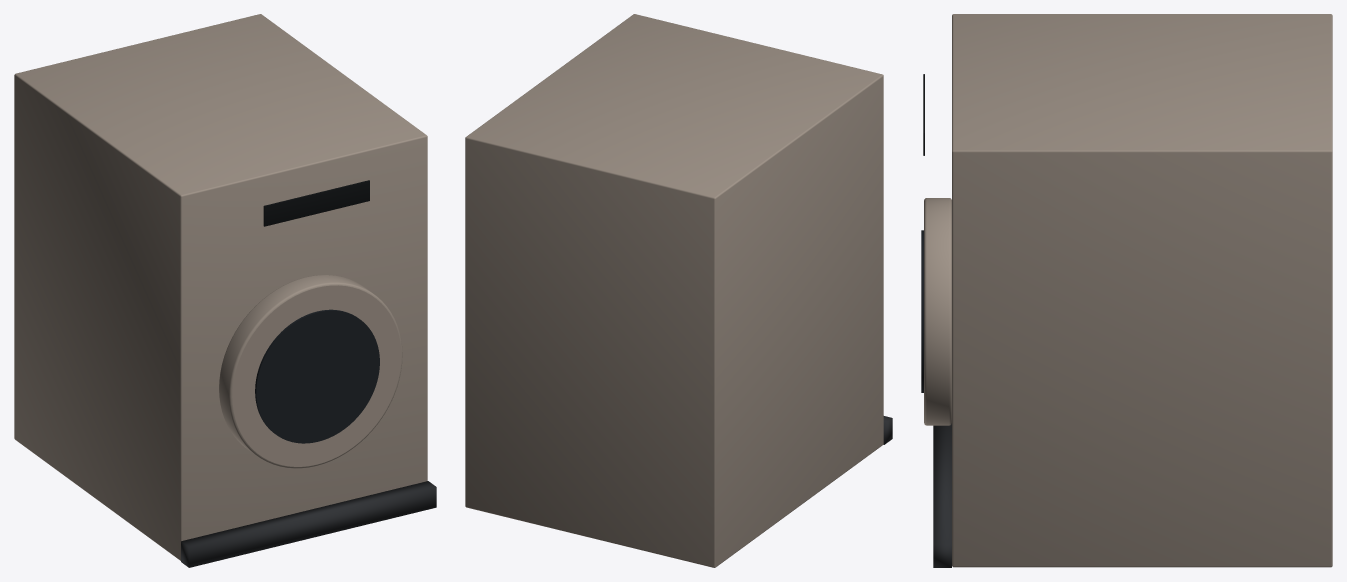
The picture shows the model from 3 angles, left to right: view 1: azimuth 30°, elevation 25°; view 2: azimuth 150°, elevation 25°; view 3: azimuth 270°, elevation 25°; orthographic projection. The views are drawn at different scales.
Visible parts, largest first — view 1: FC2521TX6C; view 2: FC2521TX6C; view 3: FC2521TX6C.
Part boxes in pixels (box(x1,y1,x2,y2)): FC2521TX6C: box(14, 14, 436, 567); FC2521TX6C: box(465, 14, 892, 567); FC2521TX6C: box(921, 14, 1332, 567).
Size of the model in its own units: 0.7 by 0.99 by 0.885.
